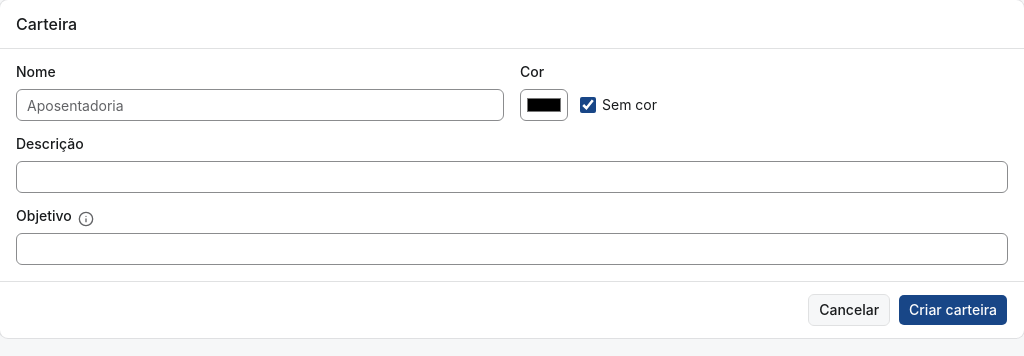
Test case: WalletForm — fields (BR-022-20) › unchecks "Sem cor" when a colour is picked, and shows it as text
Type "#ff0000" into the colour field labelled "Cor" at (544, 105), box [520,89,568,121]
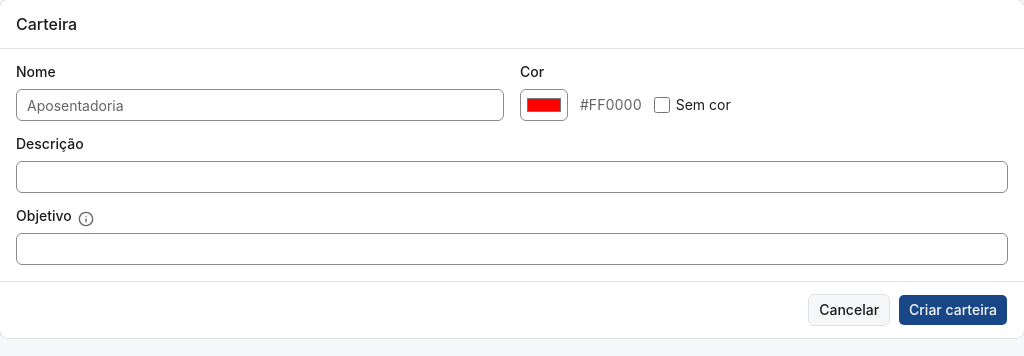
Result: the checkbox labelled "Sem cor" is not checked at [654,97,670,113]
Result: the text "#FF0000" is shown at [580,95,642,115]
